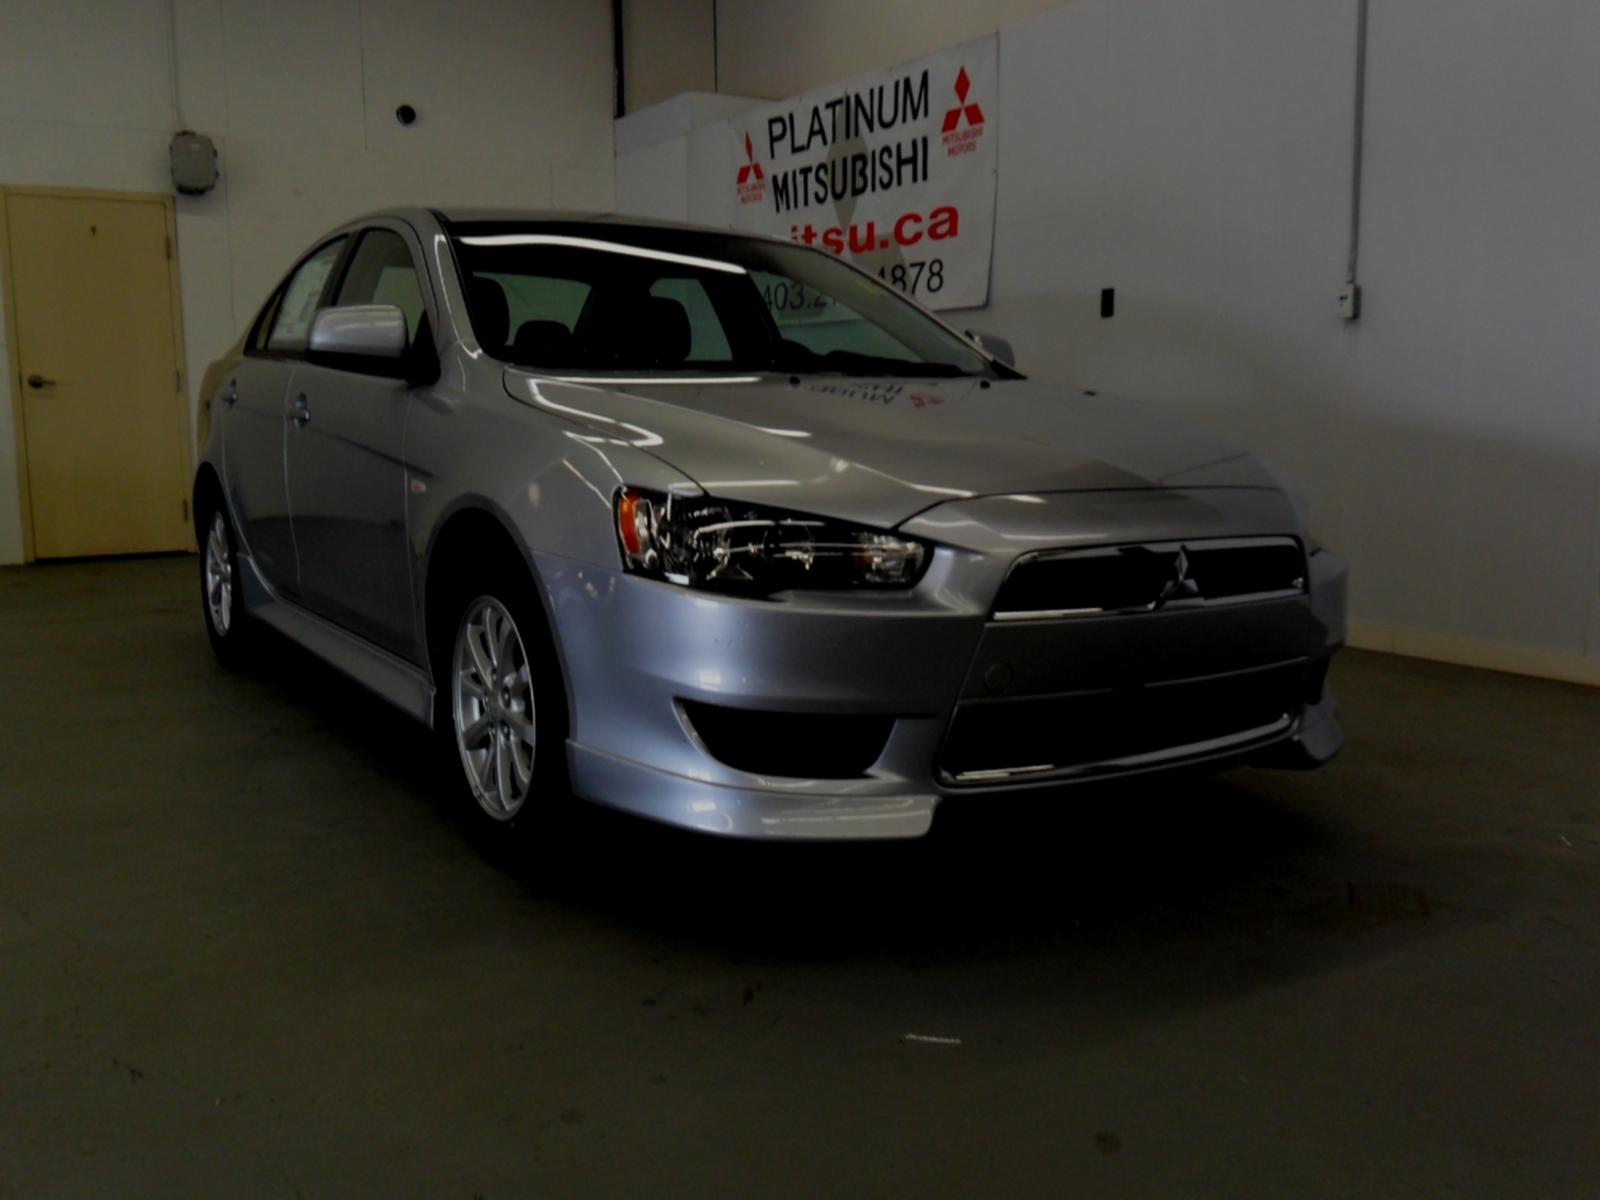Mitsubishi: (1133, 538, 1240, 616)
